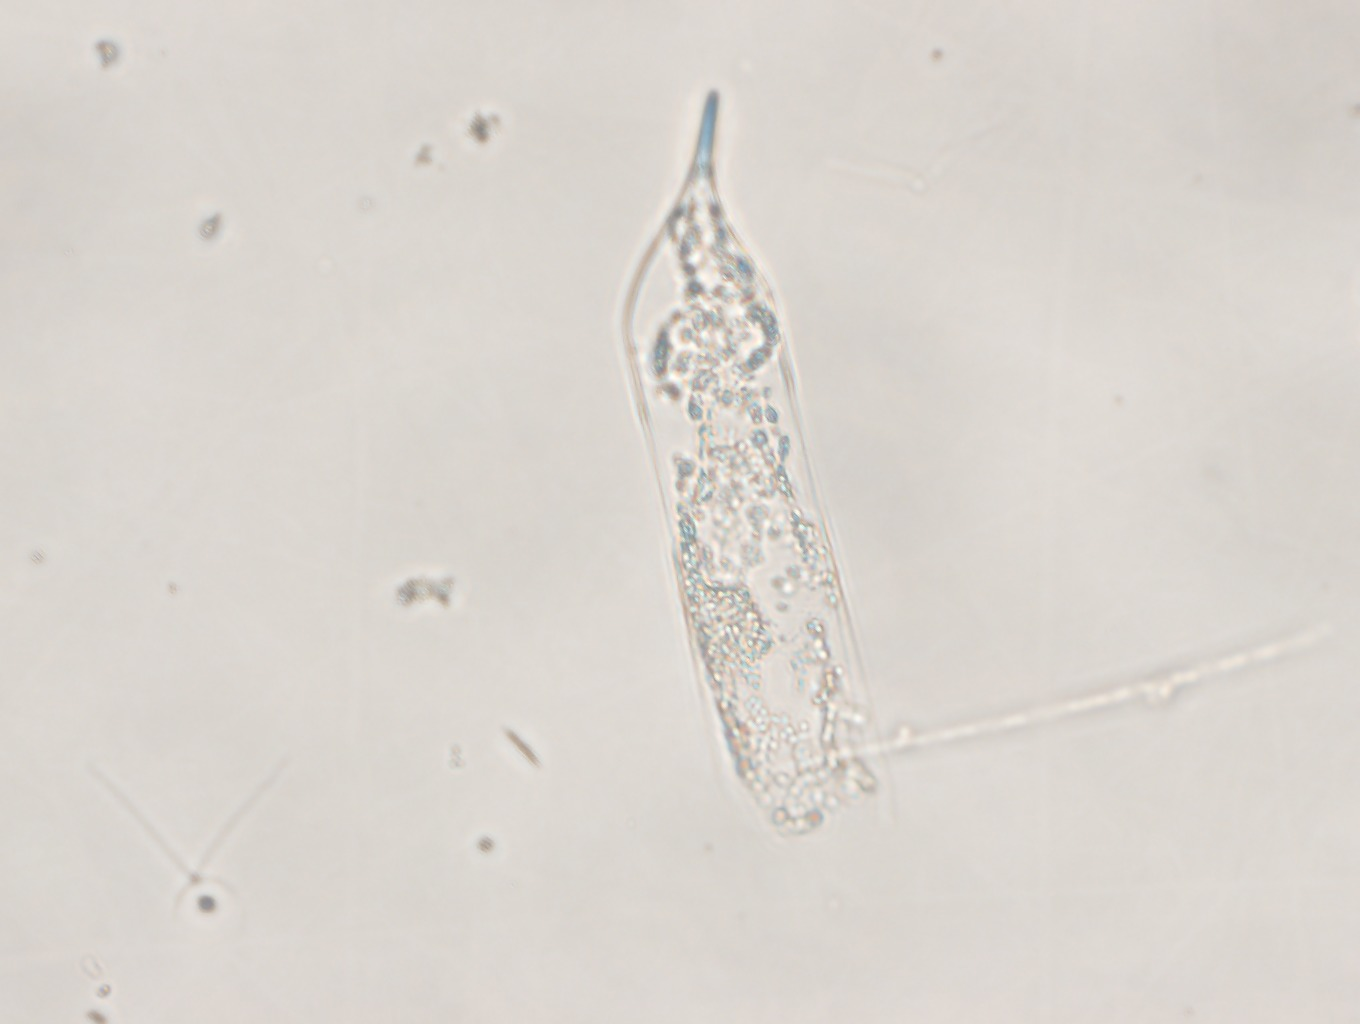rhizosolenia: (597, 77, 925, 854)
